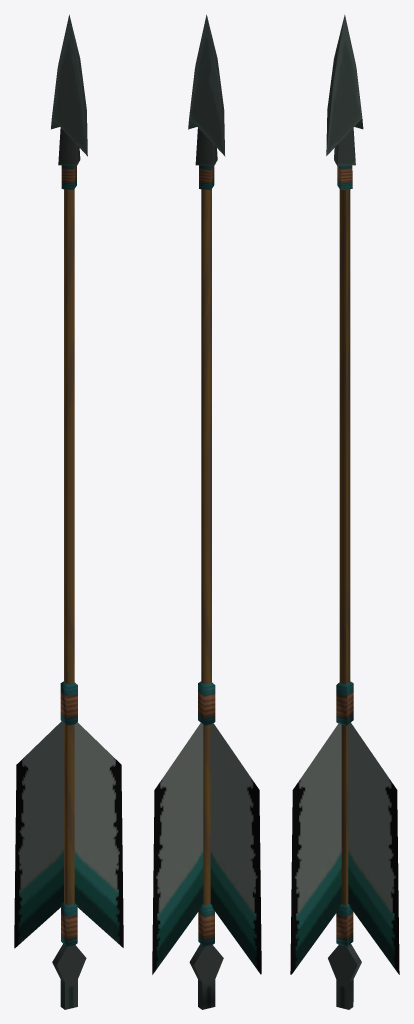
The picture shows the model from 3 angles, left to right: view 1: azimuth 30°, elevation 25°; view 2: azimuth 210°, elevation 25°; view 3: azimuth 330°, elevation 25°; orthographic projection.
Parts seen in each view (by area): view 1: Weapon_Arrow_001__Mt_Arrow_001; view 2: Weapon_Arrow_001__Mt_Arrow_001; view 3: Weapon_Arrow_001__Mt_Arrow_001.
Part boxes in pixels (<box>): Weapon_Arrow_001__Mt_Arrow_001: <box>14,14,123,1009</box>; Weapon_Arrow_001__Mt_Arrow_001: <box>152,14,261,1009</box>; Weapon_Arrow_001__Mt_Arrow_001: <box>290,14,399,1009</box>.
Bounding box in the file's own units: 0.0822 × 0.9464 × 0.0941.
Materials: 1 (1 with a texture image).
